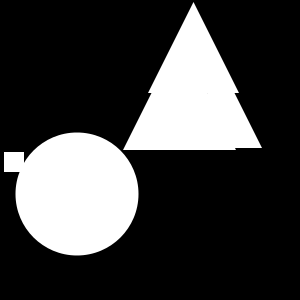circle: (4, 152, 24, 172)
rectangle: (16, 132, 138, 255)
triangle: (123, 37, 236, 150), (148, 2, 239, 93), (180, 66, 262, 148)
